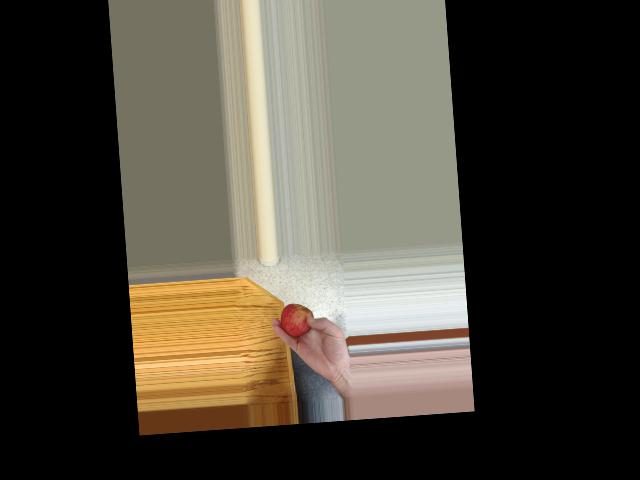apple: (278, 300, 314, 339)
